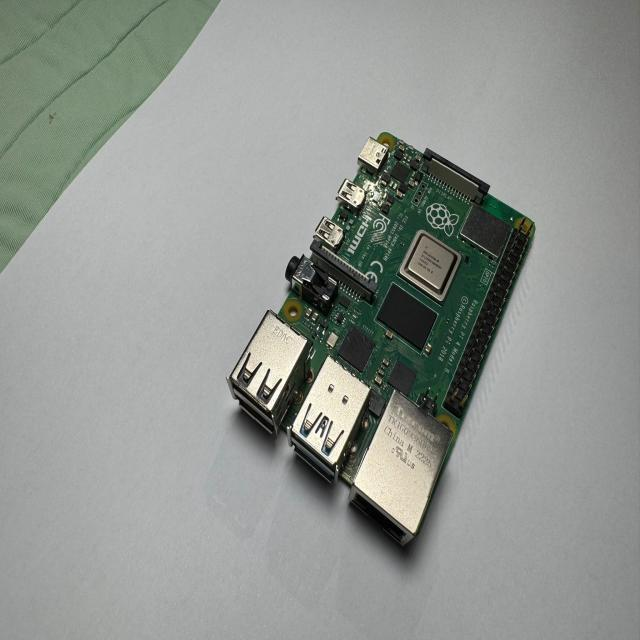CPU: (397, 230, 464, 304)
Ethernet: (343, 386, 457, 554)
GPIO: (441, 214, 538, 424)
RAM: (378, 283, 439, 355)
Raspberry: (226, 133, 535, 549)
micro-hdmi: (338, 177, 368, 212), (314, 214, 344, 247)
